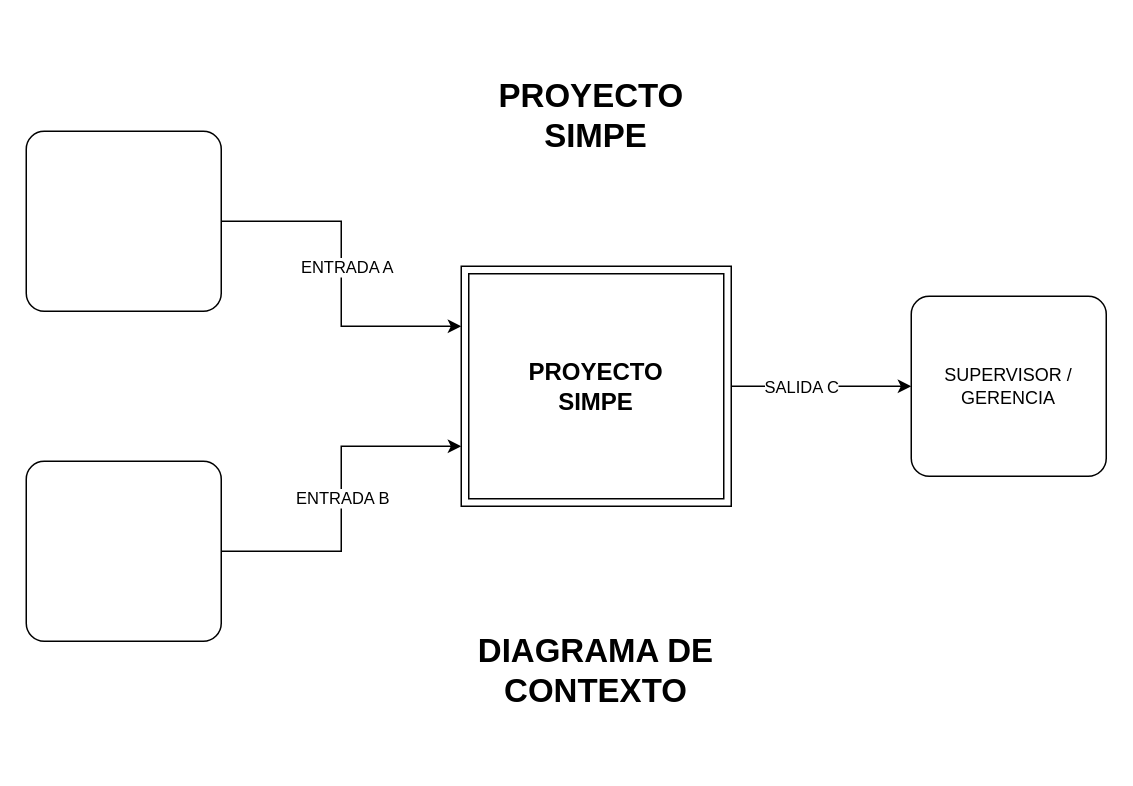
The diagram is 1133 pixels wide and 786 high, and some of its shapes have lost their labels. Here are the shapes that lost their labels. From the top down, the centre of each, then its label:
point 123,220: AGENTE
point 123,550: ADMINISTRADOR
